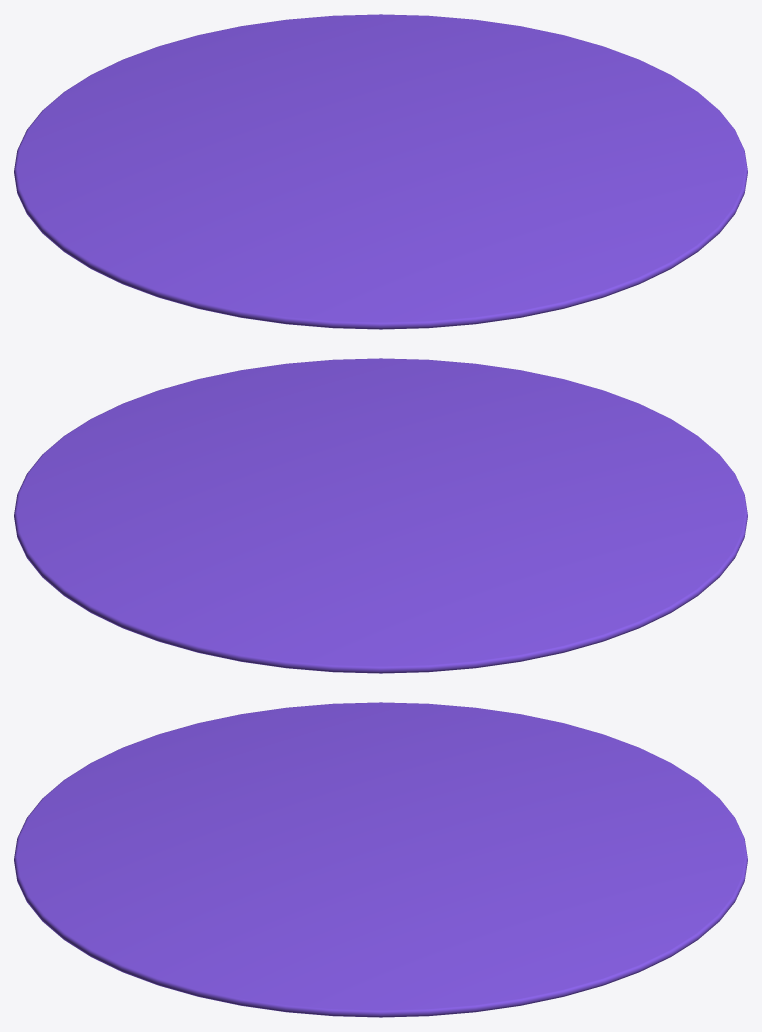
File: rug.glb
3 renders of one model, top to bottom at view 1: azimuth 30°, elevation 25°; view 2: azimuth 150°, elevation 25°; view 3: azimuth 270°, elevation 25°, orthographic.
Parts seen in each view (by area): view 1: Rug; view 2: Rug; view 3: Rug.
Boxes of the visible parts, x1,y1,x2,y2 form: Rug: (14,14,747,329); Rug: (14,358,747,673); Rug: (14,702,747,1017).
Bounding box in the file's own units: 2.4 × 0.025 × 2.4.
